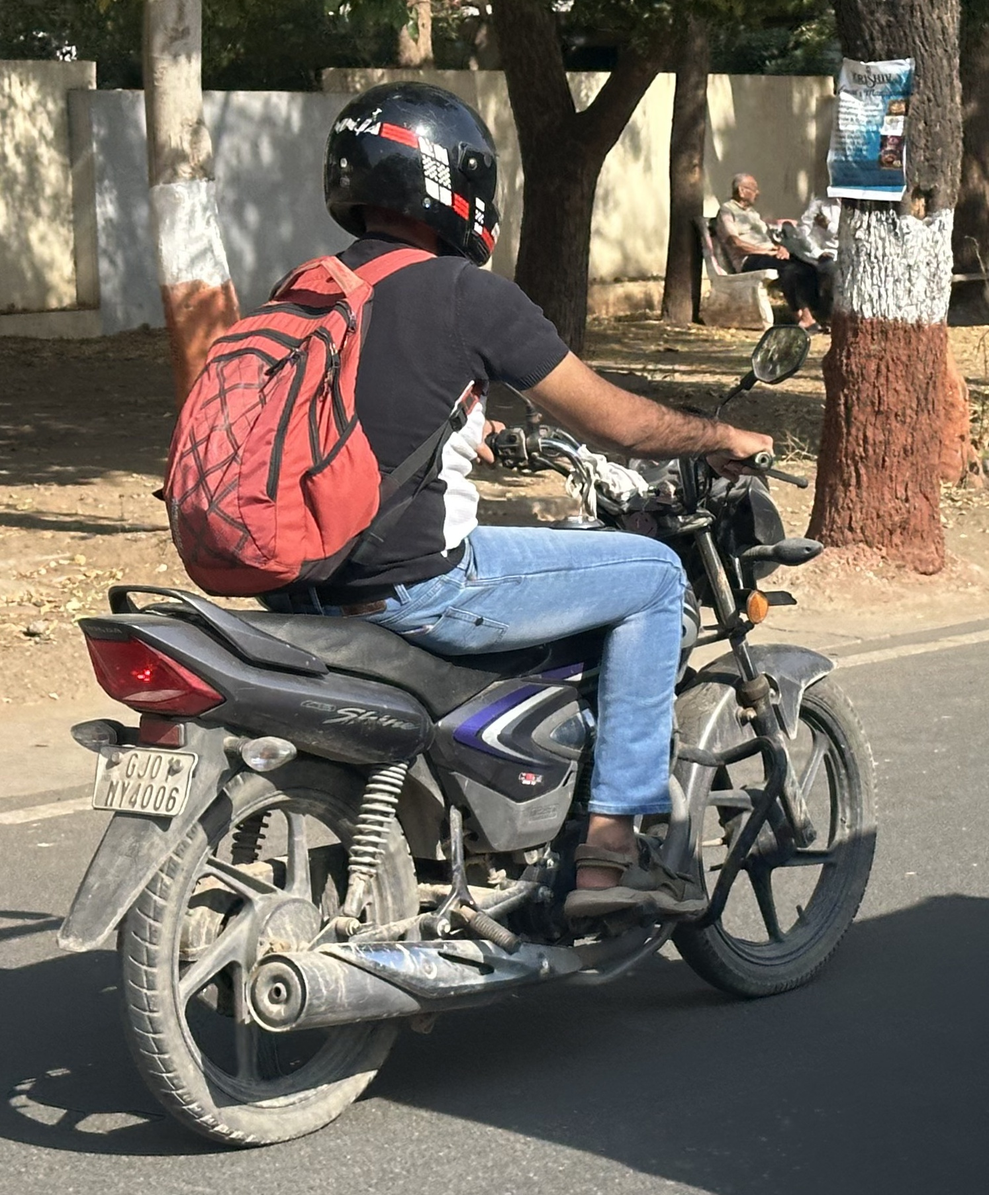BikeWithRider: (39, 67, 895, 1161)
Helmet: (305, 68, 518, 277)
